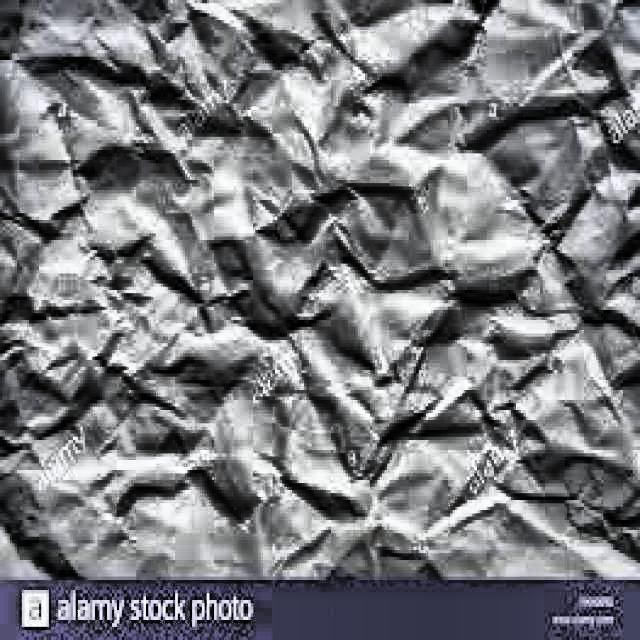Paper: (0, 0, 638, 577)
